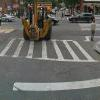Crosswalk: (2, 32, 100, 68)
